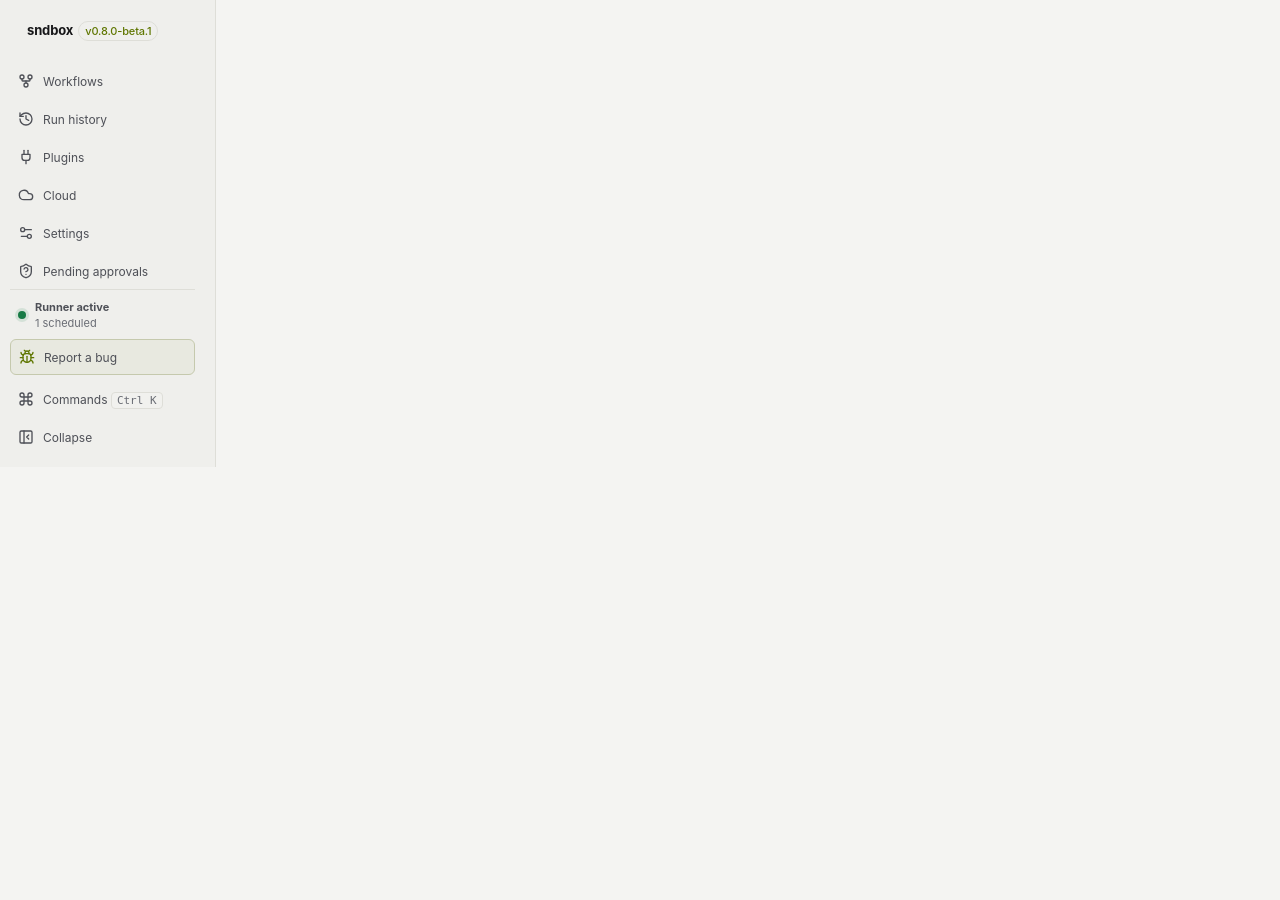
Scenario: Sidebar runner status › shows configured schedules and why they are not runnable
Expected: the text "1 scheduled" is shown, [35,316,97,330]
What coordinates should you click on to do the following:
click the button "Runner active 1 scheduled"
I would click on:
 (102, 314)
Its box is [10,289,195,339].
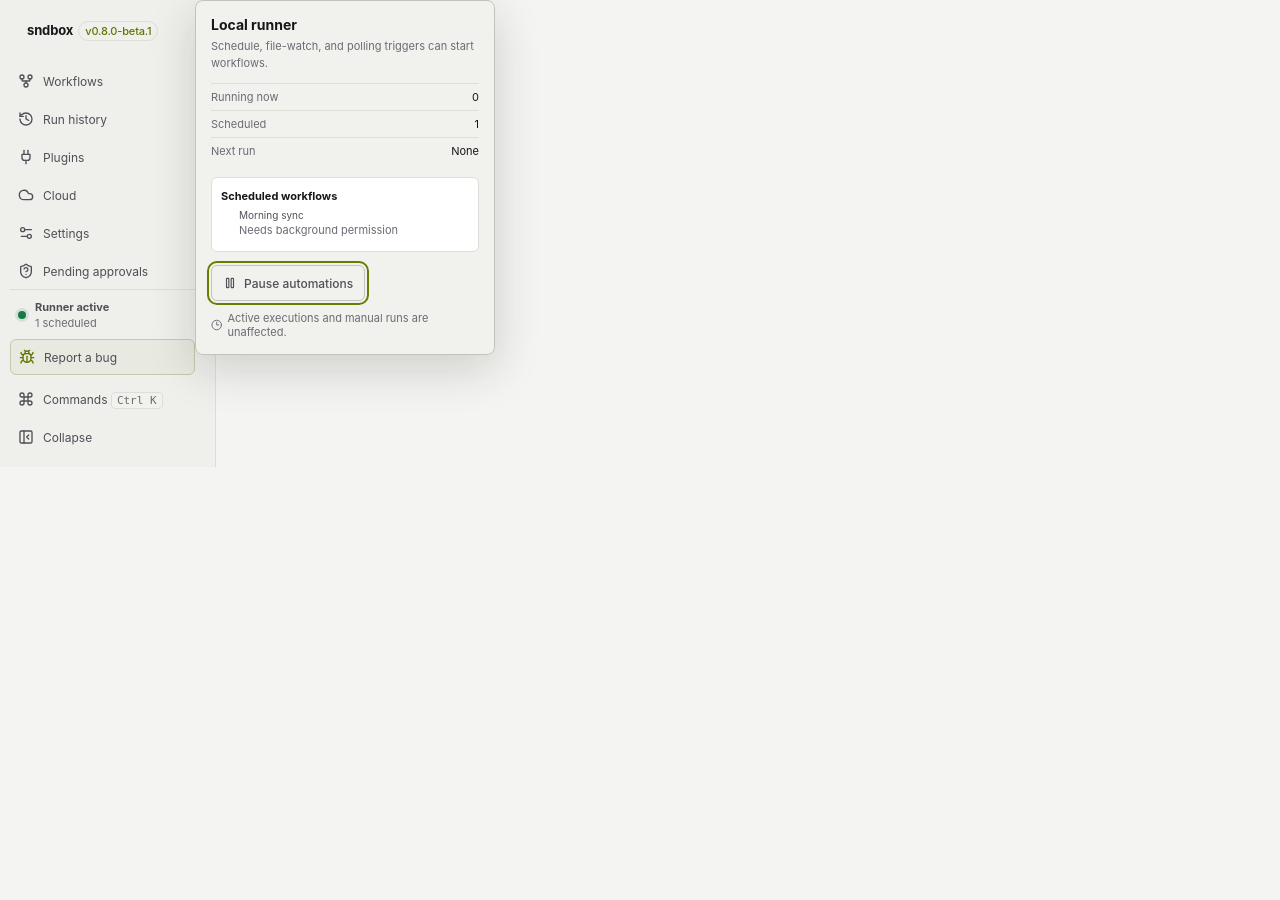
Expected: the text "Scheduled workflows" is shown, [221,189,337,203]
Expected: the text "Morning sync" is shown, [239,209,304,221]
Expected: the text "Needs background permission" is shown, [239,223,398,237]
